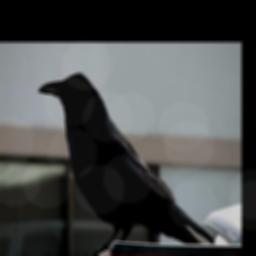Crow: (37, 71, 217, 256)
